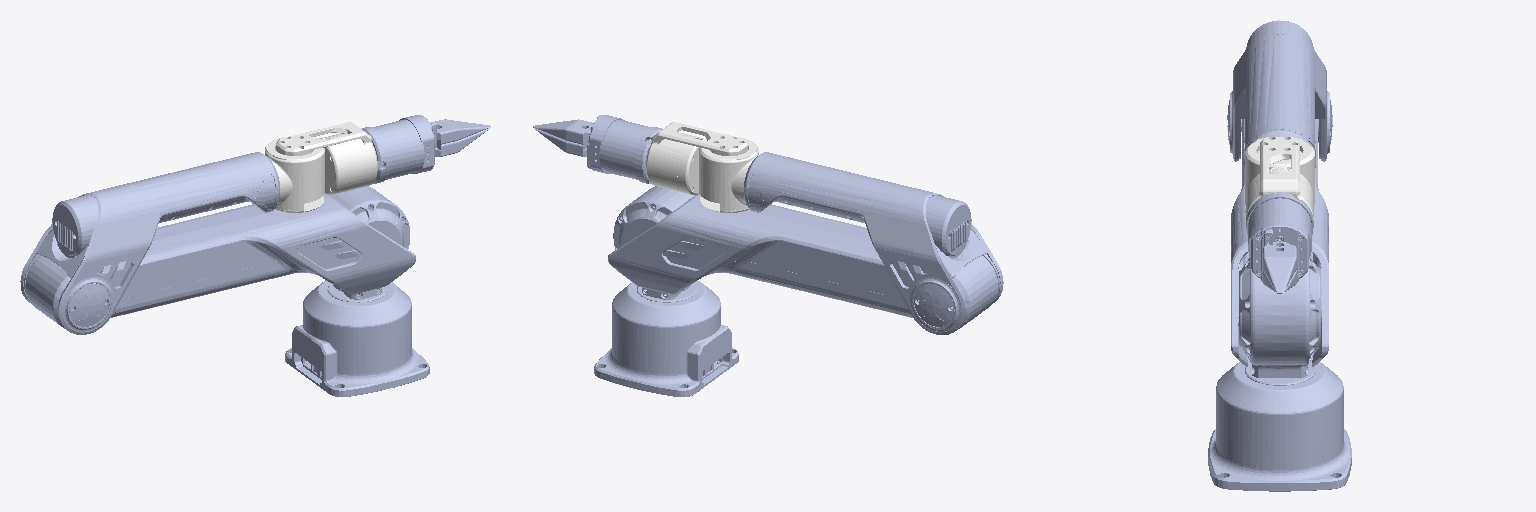
robot.urdf — A1_URDF_0607_0028:
<?xml version="1.0" encoding="utf-8"?>
<!-- This URDF was automatically created by SolidWorks to URDF Exporter! Originally created by [author] ([email redacted]) 
     Commit Version: 1.6.0-4-g7f85cfe  Build Version: 1.6.7995.38578
     For more information, please see http://wiki.ros.org/sw_urdf_exporter -->
<robot
  name="A1_URDF_0607_0028">
  <link
    name="base_link">
    <inertial>
      <origin
        xyz="-0.00056269 -4.1498E-06 0.038934"
        rpy="0 0 0" />
      <mass
        value="1.0" />
      <inertia
        ixx="0.0010597"
        ixy="1.6825E-07"
        ixz="1.9821E-05"
        iyy="0.0010647"
        iyz="1.9312E-07"
        izz="0.0011787" />
    </inertial>
    <visual>
      <origin
        xyz="0 0 0"
        rpy="0 0 0" />
      <geometry>
        <mesh
          filename="package://mobiman/urdf/A1/meshes/base_link.STL" />
      </geometry>
      <material
        name="">
        <color
          rgba="0.79216 0.81961 0.93333 1" />
      </material>
    </visual>
    <collision>
      <origin
        xyz="0 0 0"
        rpy="0 0 0" />
      <geometry>
        <mesh
          filename="package://mobiman/urdf/A1/meshes/base_link.STL" />
      </geometry>
    </collision>
  </link>
  <link
    name="arm_seg1">
    <inertial>
      <origin
        xyz="-1.4403E-06 -0.00074041 0.056573"
        rpy="0 0 0" />
      <mass
        value="1.391" />
      <inertia
        ixx="0.00058101"
        ixy="-7.5672E-09"
        ixz="-2.9207E-08"
        iyy="0.00070857"
        iyz="8.5639E-07"
        izz="0.00044583" />
    </inertial>
    <visual>
      <origin
        xyz="0 0 0"
        rpy="0 0 0" />
      <geometry>
        <mesh
          filename="package://mobiman/urdf/A1/meshes/arm_seg1.STL" />
      </geometry>
      <material
        name="">
        <color
          rgba="0.79216 0.81961 0.93333 1" />
      </material>
    </visual>
    <collision>
      <origin
        xyz="0 0 0"
        rpy="0 0 0" />
      <geometry>
        <mesh
          filename="package://mobiman/urdf/A1/meshes/arm_seg1.STL" />
      </geometry>
    </collision>
  </link>
  <joint
    name="arm_joint1"
    type="revolute">
    <origin
      xyz="-0.0011147 0 0.0892"
      rpy="0 0 3.1416" />
    <parent
      link="base_link" />
    <child
      link="arm_seg1" />
    <axis
      xyz="0 0 1" />
    <limit
      lower="-2.8798"
      upper="2.8798"
      effort="40"
      velocity="20.944" />
  </joint>
  <link
    name="arm_seg2">
    <inertial>
      <origin
        xyz="0.23622 0.016356 9.154E-05"
        rpy="0 0 0" />
      <mass
        value="1.3" />
      <inertia
        ixx="0.00060643"
        ixy="-0.00041827"
        ixz="0.00014951"
        iyy="0.0075939"
        iyz="8.093E-06"
        izz="0.0075715" />
    </inertial>
    <visual>
      <origin
        xyz="0 0 0"
        rpy="0 0 0" />
      <geometry>
        <mesh
          filename="package://mobiman/urdf/A1/meshes/arm_seg2.STL" />
      </geometry>
      <material
        name="">
        <color
          rgba="0.79216 0.81961 0.93333 1" />
      </material>
    </visual>
    <collision>
      <origin
        xyz="0 0 0"
        rpy="0 0 0" />
      <geometry>
        <mesh
          filename="package://mobiman/urdf/A1/meshes/arm_seg2.STL" />
      </geometry>
    </collision>
  </link>
  <joint
    name="arm_joint2"
    type="revolute">
    <origin
      xyz="0 -4E-05 0.0615"
      rpy="1.5708 0 0" />
    <parent
      link="arm_seg1" />
    <child
      link="arm_seg2" />
    <axis
      xyz="0 0 1" />
    <limit
      lower="0"
      upper="3.1415"
      effort="40"
      velocity="20.944" />
  </joint>
  <link
    name="arm_seg3">
    <inertial>
      <origin
        xyz="0.054443 0.045347 0.00042807"
        rpy="0 0 0" />
      <mass
        value="0.818" />
      <inertia
        ixx="0.0013904"
        ixy="-0.00022559"
        ixz="9.6874E-06"
        iyy="0.00059564"
        iyz="7.1658E-06"
        izz="0.0014962" />
    </inertial>
    <visual>
      <origin
        xyz="0 0 0"
        rpy="0 0 0" />
      <geometry>
        <mesh
          filename="package://mobiman/urdf/A1/meshes/arm_seg3.STL" />
      </geometry>
      <material
        name="">
        <color
          rgba="0.79216 0.81961 0.93333 1" />
      </material>
    </visual>
    <collision>
      <origin
        xyz="0 0 0"
        rpy="0 0 0" />
      <geometry>
        <mesh
          filename="package://mobiman/urdf/A1/meshes/arm_seg3.STL" />
      </geometry>
    </collision>
  </link>
  <joint
    name="arm_joint3"
    type="revolute">
    <origin
      xyz="0.34928 0.02 0"
      rpy="0 0 1.5708" />
    <parent
      link="arm_seg2" />
    <child
      link="arm_seg3" />
    <axis
      xyz="0 0 1" />
    <limit
      lower="-3.3161"
      upper="0"
      effort="27"
      velocity="7.5398" />
  </joint>
  <link
    name="arm_seg4">
    <inertial>
      <origin
        xyz="7.6256E-07 -0.0021448 0.27415"
        rpy="0 0 0" />
      <mass
        value="0.816" />
      <inertia
        ixx="9.7042E-05"
        ixy="-5.177E-09"
        ixz="-2.2681E-09"
        iyy="0.00010174"
        iyz="8.2528E-07"
        izz="8.4501E-05" />
    </inertial>
    <visual>
      <origin
        xyz="0 0 0"
        rpy="0 0 0" />
      <geometry>
        <mesh
          filename="package://mobiman/urdf/A1/meshes/arm_seg4.STL" />
      </geometry>
      <material
        name="">
        <color
          rgba="1 1 1 1" />
      </material>
    </visual>
    <collision>
      <origin
        xyz="0 0 0"
        rpy="0 0 0" />
      <geometry>
        <mesh
          filename="package://mobiman/urdf/A1/meshes/arm_seg4.STL" />
      </geometry>
    </collision>
  </link>
  <joint
    name="arm_joint4"
    type="revolute">
    <origin
      xyz="0.07 -0.00395 -4E-05"
      rpy="-1.5708 1.5708 0" />
    <parent
      link="arm_seg3" />
    <child
      link="arm_seg4" />
    <axis
      xyz="0 0 1" />
    <limit
      lower="-2.8798"
      upper="2.8798"
      effort="7"
      velocity="25.133" />
  </joint>
  <link
    name="arm_seg5">
    <inertial>
      <origin
        xyz="-3.9997E-06 -0.05431 0.0034482"
        rpy="0 0 0" />
      <mass
        value="0.801" />
      <inertia
        ixx="0.00011332"
        ixy="7.432E-08"
        ixz="1.368E-08"
        iyy="8.3999E-05"
        iyz="-1.6234E-05"
        izz="9.8497E-05" />
    </inertial>
    <visual>
      <origin
        xyz="0 0 0"
        rpy="0 0 0" />
      <geometry>
        <mesh
          filename="package://mobiman/urdf/A1/meshes/arm_seg5.STL" />
      </geometry>
      <material
        name="">
        <color
          rgba="1 1 1 1" />
      </material>
    </visual>
    <collision>
      <origin
        xyz="0 0 0"
        rpy="0 0 0" />
      <geometry>
        <mesh
          filename="package://mobiman/urdf/A1/meshes/arm_seg5.STL" />
      </geometry>
    </collision>
  </link>
  <joint
    name="arm_joint5"
    type="revolute">
    <origin
      xyz="0 0 0.2776"
      rpy="-1.5708 0 3.1416" />
    <parent
      link="arm_seg4" />
    <child
      link="arm_seg5" />
    <axis
      xyz="0 0 1" />
    <limit
      lower="-1.6581"
      upper="1.6581"
      effort="7"
      velocity="25.133" />
  </joint>
  <link
    name="arm_seg6">
    <inertial>
      <origin
        xyz="2.406E-06 -9.4582E-08 -0.038796"
        rpy="0 0 0" />
      <mass
        value="0.465" />
      <inertia
        ixx="0.00011445"
        ixy="3.336E-10"
        ixz="1.4799E-08"
        iyy="0.00011239"
        iyz="-6.1057E-10"
        izz="7.4519E-05" />
    </inertial>
    <visual>
      <origin
        xyz="0 0 0"
        rpy="0 0 0" />
      <geometry>
        <mesh
          filename="package://mobiman/urdf/A1/meshes/arm_seg6.STL" />
      </geometry>
      <material
        name="">
        <color
          rgba="0.79216 0.81961 0.93333 1" />
      </material>
    </visual>
    <collision>
      <origin
        xyz="0 0 0"
        rpy="0 0 0" />
      <geometry>
        <mesh
          filename="package://mobiman/urdf/A1/meshes/arm_seg6.STL" />
      </geometry>
    </collision>
  </link>
  <joint
    name="arm_joint6"
    type="revolute">
    <origin
      xyz="0 -0.1575 -0.00023266"
      rpy="1.5708 0 0" />
    <parent
      link="arm_seg5" />
    <child
      link="arm_seg6" />
    <axis
      xyz="0 0 1" />
    <limit
      lower="-2.8798"
      upper="2.8798"
      effort="7"
      velocity="25.133" />
  </joint>
  <link
    name="gripper1">
    <inertial>
      <origin
        xyz="0.022575 -0.01276 0.015787"
        rpy="0 0 0" />
      <mass
        value="0.057" />
      <inertia
        ixx="1.7676E-06"
        ixy="8.2594E-08"
        ixz="2.5995E-07"
        iyy="4.7258E-06"
        iyz="1.2291E-07"
        izz="5.2672E-06" />
    </inertial>
    <visual>
      <origin
        xyz="0 0 0"
        rpy="0 0 0" />
      <geometry>
        <mesh
          filename="package://mobiman/urdf/A1/meshes/gripper1.STL" />
      </geometry>
      <material
        name="">
        <color
          rgba="0.79216 0.81961 0.93333 1" />
      </material>
    </visual>
    <collision>
      <origin
        xyz="0 0 0"
        rpy="0 0 0" />
      <geometry>
        <mesh
          filename="package://mobiman/urdf/A1/meshes/gripper1.STL" />
      </geometry>
    </collision>
  </link>
  <joint
    name="gripper1_axis"
    type="fixed">
    <origin
      xyz="0.014 -0.011914 0.003125"
      rpy="1.5708 -1.5708 3.1415" />
    <parent
      link="arm_seg6" />
    <child
      link="gripper1" />
    <axis
      xyz="0 0 1" />
    <limit
      lower="0"
      upper="0.03"
      effort="200"
      velocity="0.25" />
  </joint>
  <link
    name="gripper2">
    <inertial>
      <origin
        xyz="0.022575 -0.01276 0.015787"
        rpy="0 0 0" />
      <mass
        value="0.057" />
      <inertia
        ixx="1.7676E-06"
        ixy="8.2594E-08"
        ixz="2.5995E-07"
        iyy="4.7258E-06"
        iyz="1.2291E-07"
        izz="5.2672E-06" />
    </inertial>
    <visual>
      <origin
        xyz="0 0 0"
        rpy="0 0 0" />
      <geometry>
        <mesh
          filename="package://mobiman/urdf/A1/meshes/gripper2.STL" />
      </geometry>
      <material
        name="">
        <color
          rgba="0.79216 0.81961 0.93333 1" />
      </material>
    </visual>
    <collision>
      <origin
        xyz="0 0 0"
        rpy="0 0 0" />
      <geometry>
        <mesh
          filename="package://mobiman/urdf/A1/meshes/gripper2.STL" />
      </geometry>
    </collision>
  </link>
  <joint
    name="gripper2_axis"
    type="fixed">
    <origin
      xyz="-0.014 0.011914 0.003125"
      rpy="-1.5708 -1.5708 3.1415" />
    <parent
      link="arm_seg6" />
    <child
      link="gripper2" />
    <axis
      xyz="0 0 1" />
    <limit
      lower="0"
      upper="0.03"
      effort="200"
      velocity="0.25" />
  </joint>
</robot>

--- What the picture shows (computed from the rendered views, not written in the file) ---
The picture shows the robot from 3 angles, left to right: view 1: azimuth 30°, elevation 25°; view 2: azimuth 150°, elevation 25°; view 3: azimuth 270°, elevation 25°; orthographic projection.
Model A1_URDF_0607_0028 with 9 links and 8 joints (6 revolute, 2 fixed), rooted at base_link, posed every joint at zero.
Links seen in each view (by area): view 1: arm_seg2, arm_seg3, base_link, arm_seg5, arm_seg6, arm_seg4, arm_seg1, gripper1, gripper2; view 2: arm_seg2, arm_seg3, base_link, arm_seg5, arm_seg6, arm_seg4, arm_seg1, gripper1; view 3: base_link, arm_seg3, arm_seg1, arm_seg2, arm_seg6, arm_seg5, gripper1, arm_seg4.
Boxes of the visible links, <box> form: arm_seg2: <box>25,194,415,328</box>; arm_seg3: <box>20,152,279,334</box>; base_link: <box>285,280,429,396</box>; arm_seg5: <box>276,122,377,194</box>; arm_seg6: <box>362,115,434,183</box>; arm_seg4: <box>265,136,324,212</box>; arm_seg1: <box>327,186,409,302</box>; gripper1: <box>435,119,490,144</box>; gripper2: <box>430,122,490,156</box>; arm_seg2: <box>608,194,998,328</box>; arm_seg3: <box>744,152,1003,334</box>; base_link: <box>594,280,738,396</box>; arm_seg5: <box>646,122,747,194</box>; arm_seg6: <box>589,115,661,183</box>; arm_seg4: <box>699,137,758,212</box>; arm_seg1: <box>613,186,696,302</box>; gripper1: <box>533,119,592,168</box>; base_link: <box>1208,358,1351,491</box>; arm_seg3: <box>1227,20,1332,167</box>; arm_seg1: <box>1239,256,1320,385</box>; arm_seg2: <box>1231,119,1328,366</box>; arm_seg6: <box>1246,192,1313,281</box>; arm_seg5: <box>1246,137,1313,222</box>; gripper1: <box>1263,242,1296,293</box>; arm_seg4: <box>1245,137,1314,211</box>.
Size in the robot's own frame: 0.5463 by 0.128 by 0.2775 metres.
9 mesh visuals loaded from 9 distinct referenced files (9 binary STL).